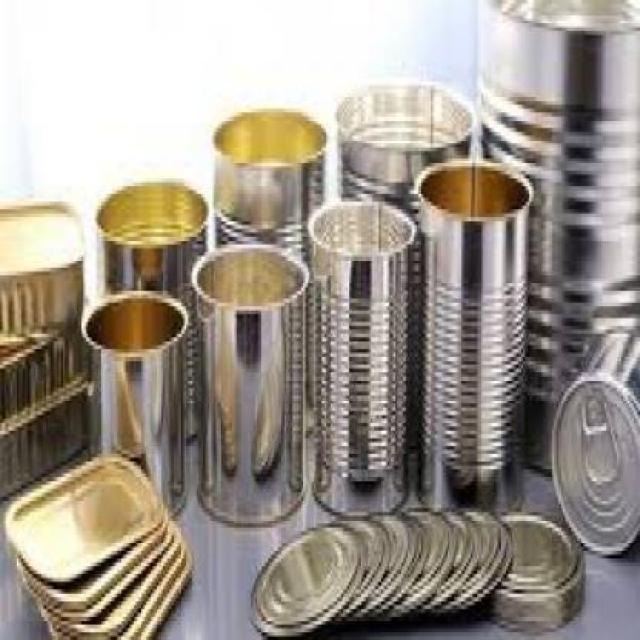METAL: (477, 0, 638, 474), (335, 80, 470, 434), (412, 155, 530, 520), (210, 103, 324, 434), (190, 236, 305, 524), (308, 193, 406, 504), (94, 178, 204, 442), (81, 294, 182, 512), (18, 512, 191, 636), (8, 450, 163, 582), (550, 326, 638, 554), (250, 516, 356, 636), (482, 500, 583, 625), (0, 372, 82, 497), (0, 205, 82, 322), (318, 512, 387, 628), (0, 329, 85, 405), (366, 508, 414, 624), (404, 508, 450, 624), (442, 508, 482, 624)
